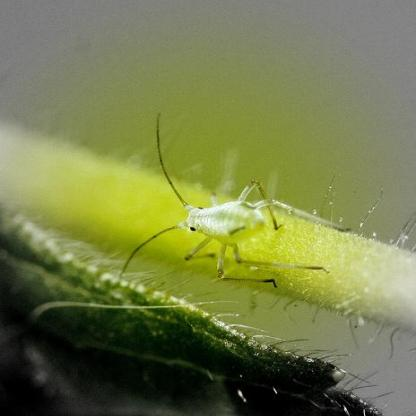aphid: (117, 109, 354, 303)
